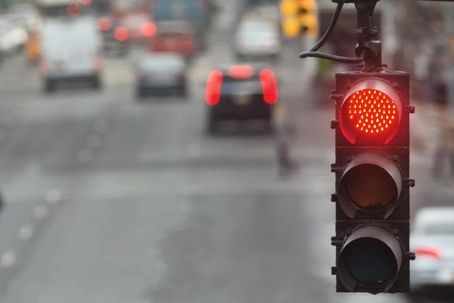red: (334, 70, 411, 293)
